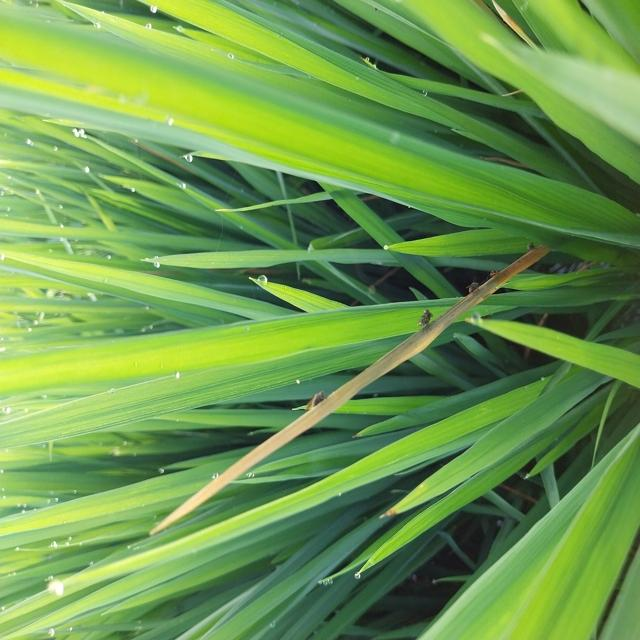healthy: (408, 296, 441, 337), (310, 382, 332, 411), (464, 280, 488, 304), (521, 237, 541, 257), (487, 264, 505, 284)
